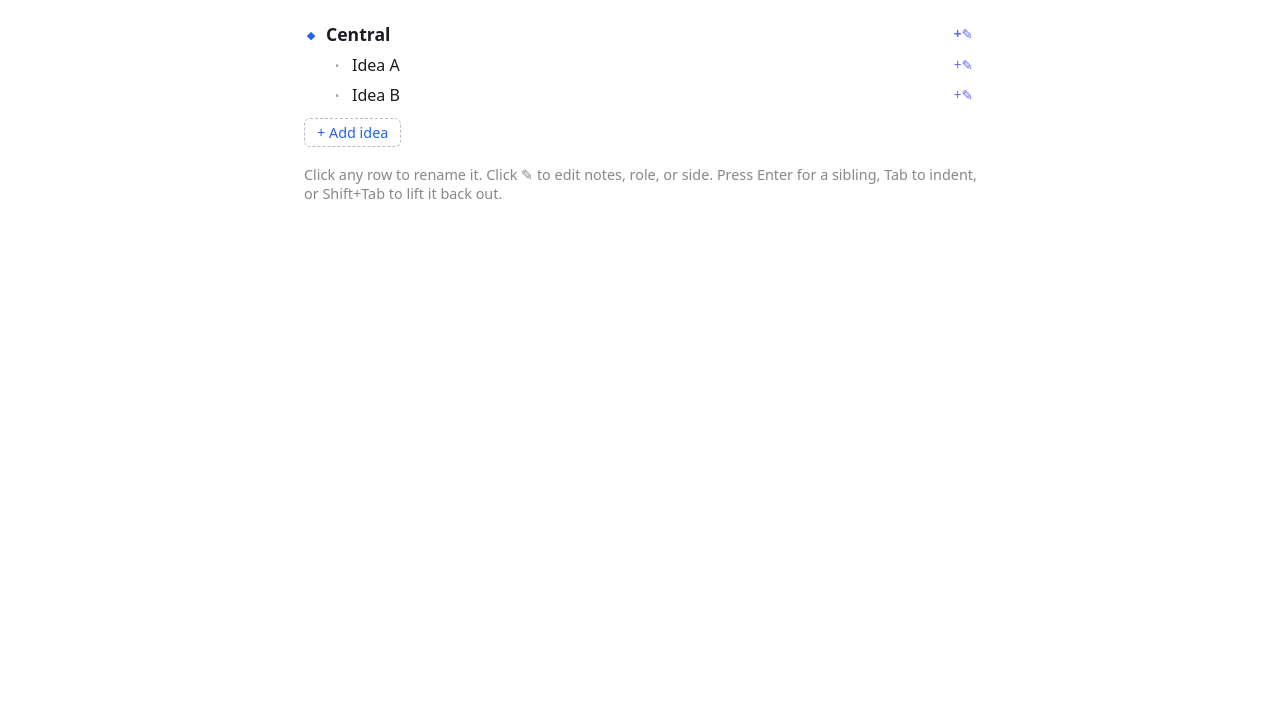
Test: OutlineView › Escape in the input clears editing without committing the draft
Click the list item with test id "outline-row-b". click: (376, 95)
box: [288,80,992,110]
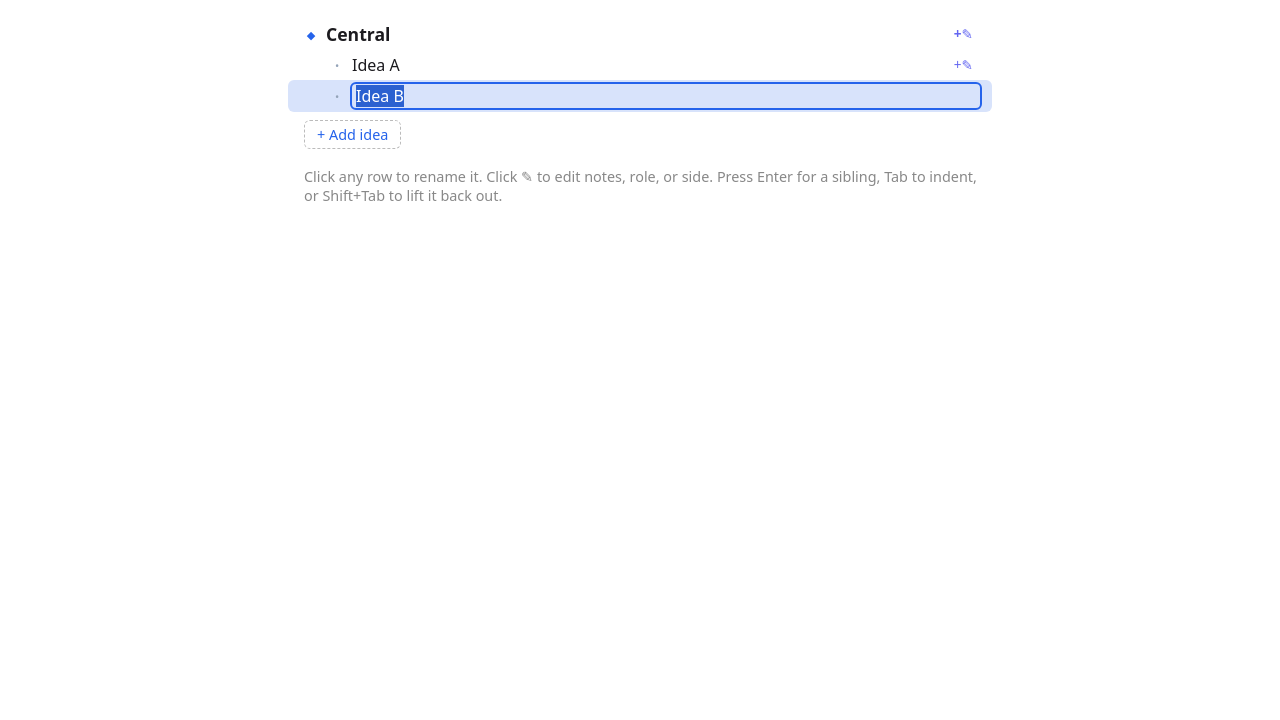
Replace the text in the field showing "Idea B" with "Throwing away". click: (666, 96)
box: [352,84,980,108]
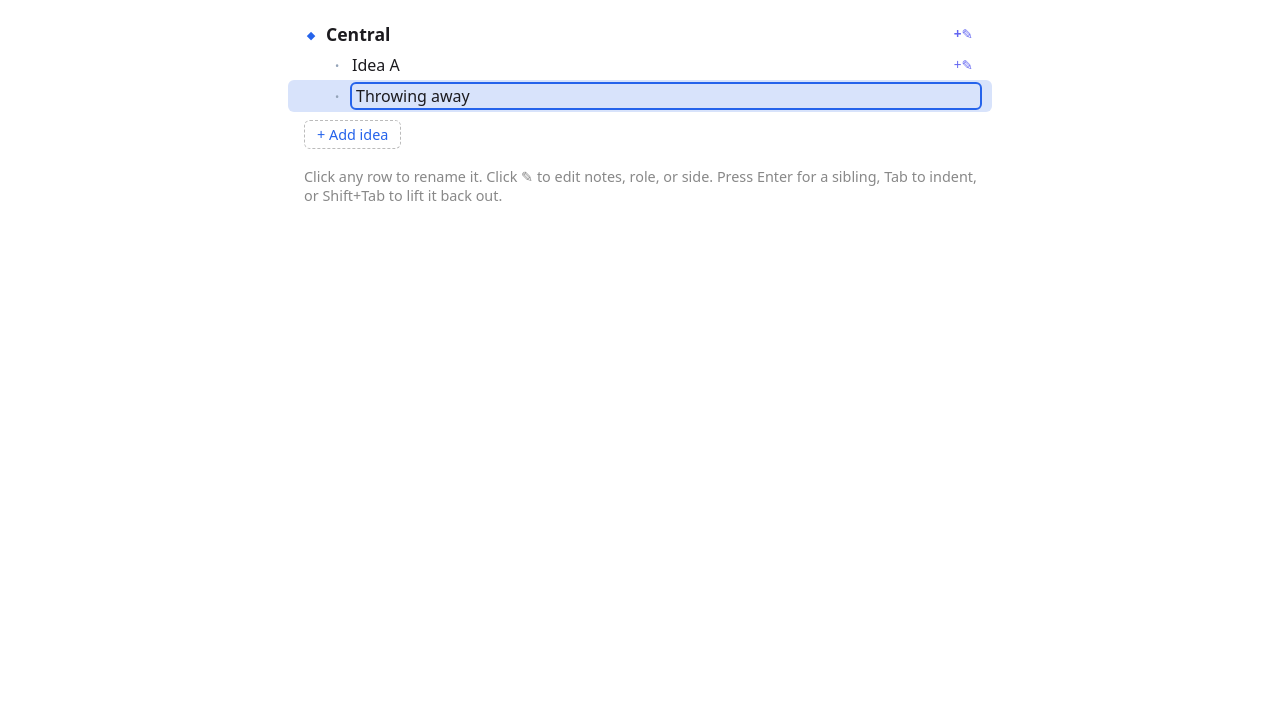
Press Escape in the field showing "Idea B", box [352,84,980,108]
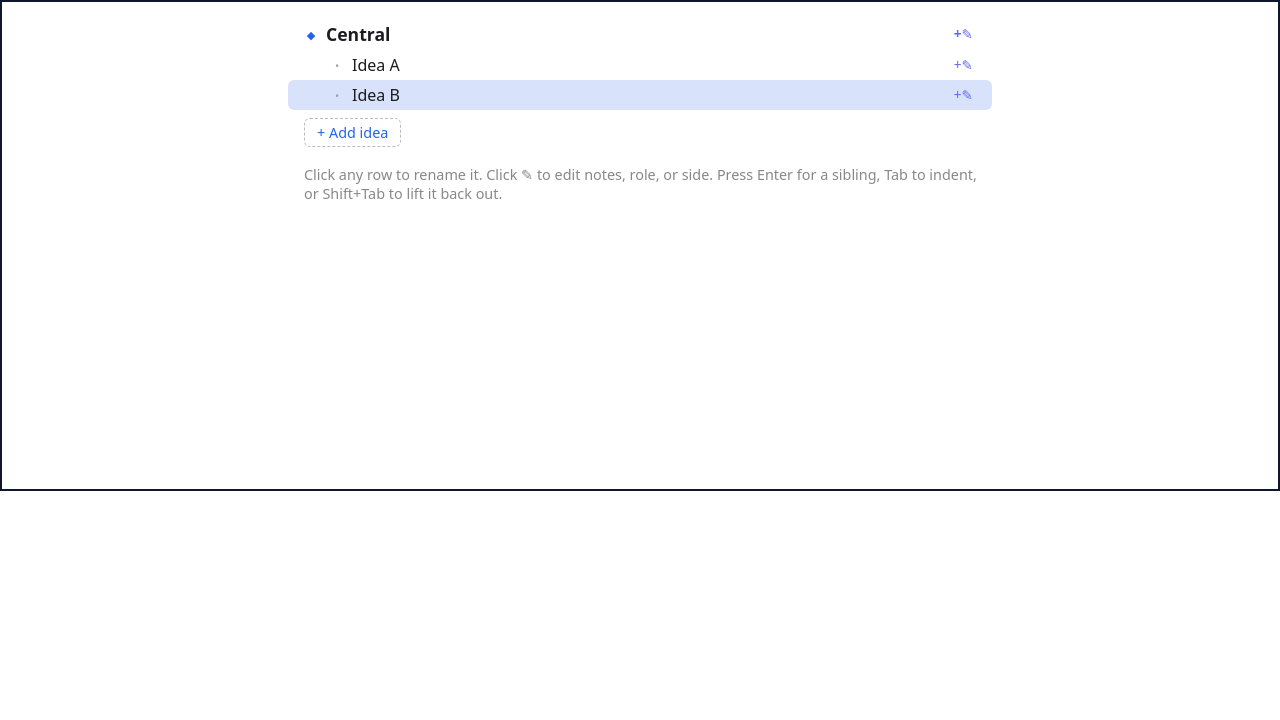
Now the text "Idea B" is shown, box [352,84,400,106]
